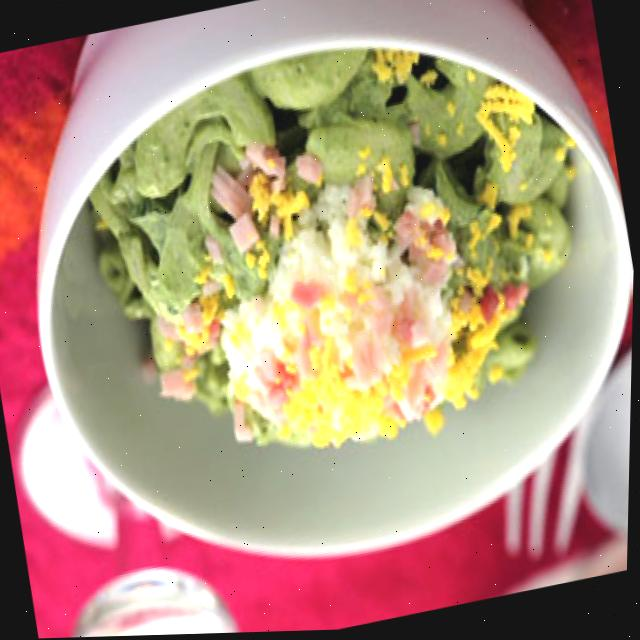蔬菜料理: (2, 0, 640, 585)
